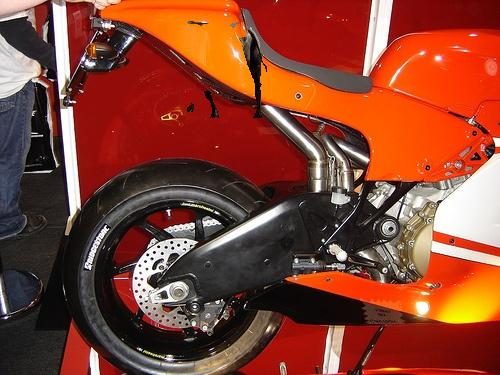tampered: (188, 22, 267, 118)
